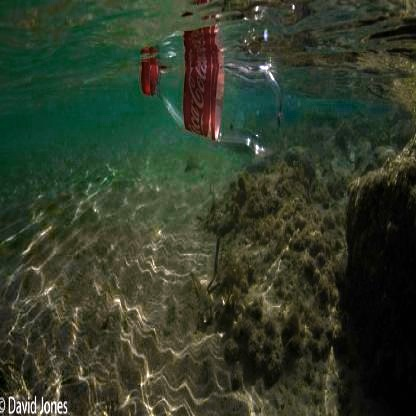pbottle: (134, 43, 291, 161)
